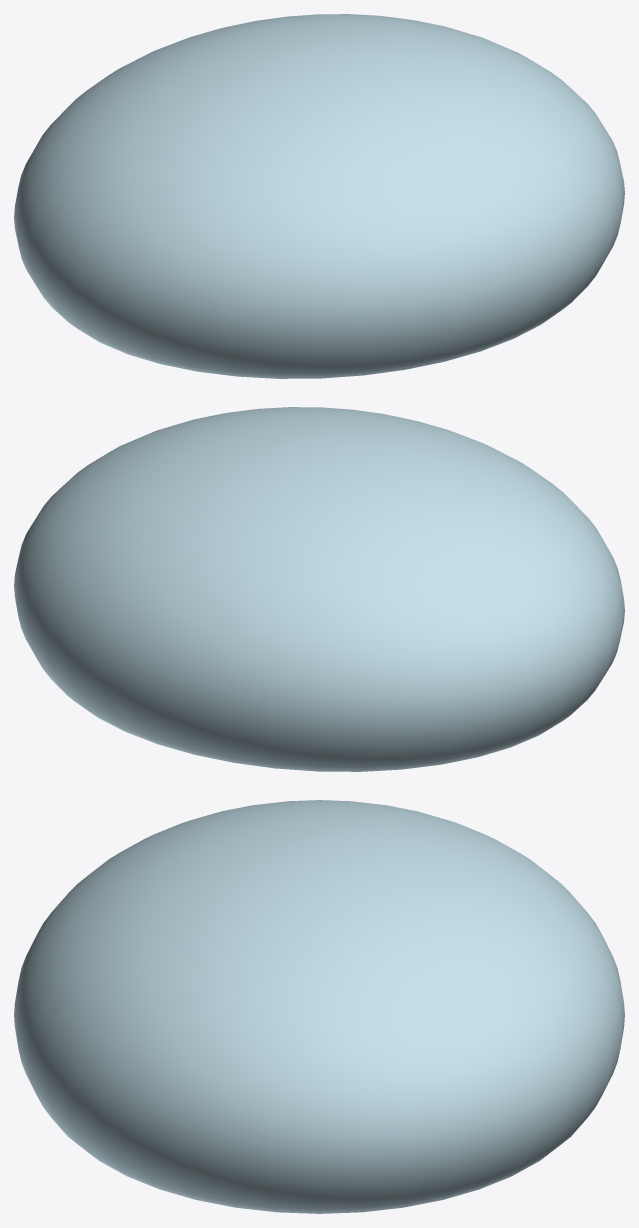
Rendered from JellyFishJump.fbx.
The picture shows the model from 3 angles, top to bottom: view 1: azimuth 30°, elevation 25°; view 2: azimuth 150°, elevation 25°; view 3: azimuth 270°, elevation 25°; orthographic projection. The views are drawn at different scales.
Visible parts, largest first — view 1: JellyFish; view 2: JellyFish; view 3: JellyFish.
Part boxes in pixels (<box>): JellyFish: <box>14,14,624,378</box>; JellyFish: <box>14,407,624,771</box>; JellyFish: <box>14,800,624,1213</box>.
Bounding box in the file's own units: 11.23 × 4.28 × 10.08.
